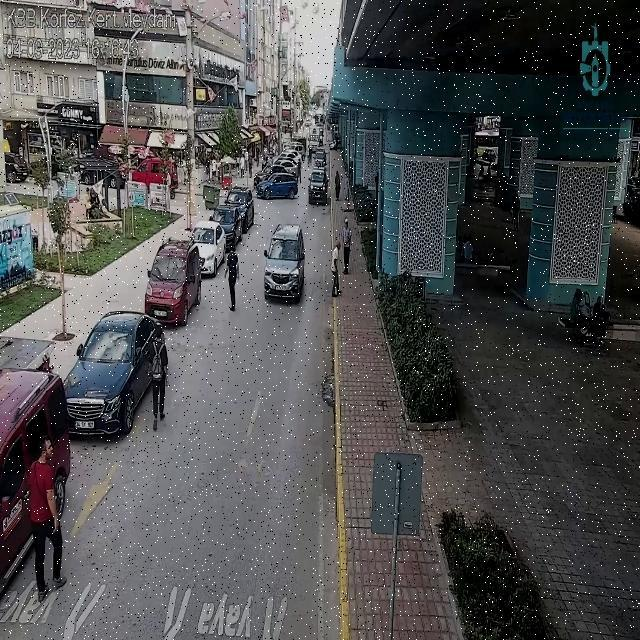Car: (62, 312, 166, 432), (144, 238, 205, 324), (262, 223, 306, 304), (188, 221, 226, 276), (209, 204, 246, 249), (220, 187, 255, 234), (254, 172, 298, 200), (307, 170, 329, 204)
Van: (0, 367, 71, 594)
